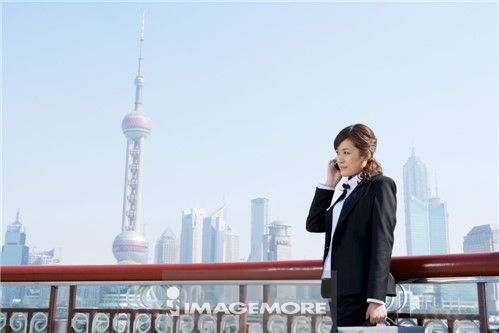talk: (325, 147, 355, 183)
